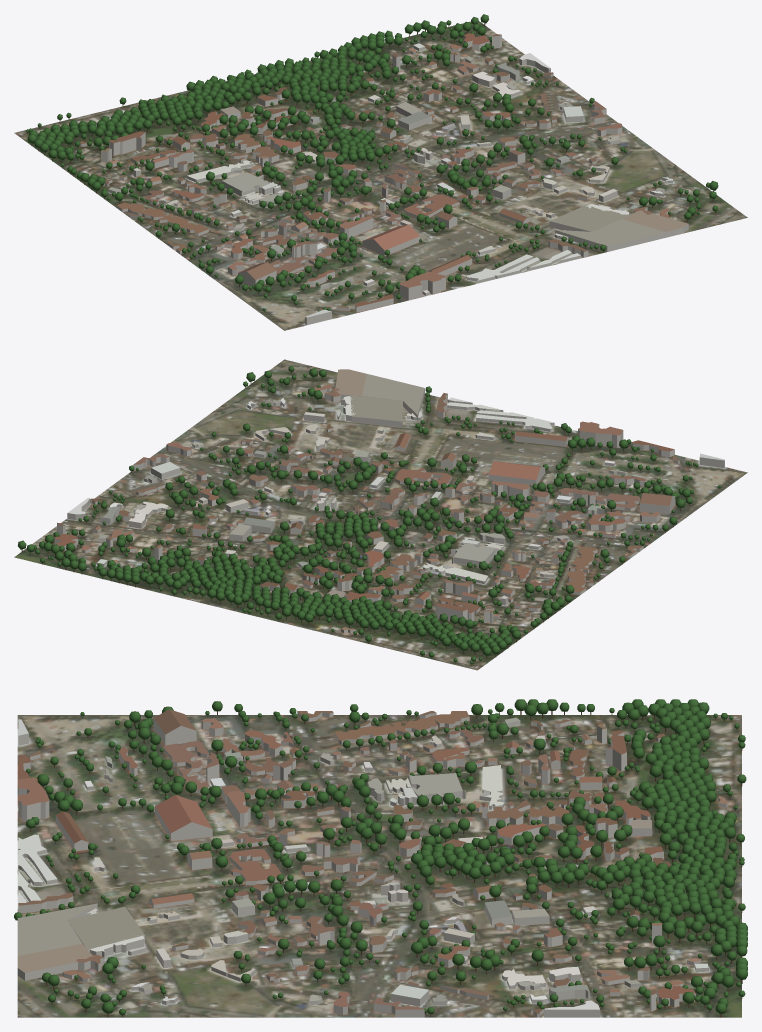
The picture shows the model from 3 angles, top to bottom: view 1: azimuth 30°, elevation 25°; view 2: azimuth 150°, elevation 25°; view 3: azimuth 270°, elevation 25°; orthographic projection. The views are drawn at different scales.
Visible parts, largest first — view 1: ground, trees, B226, B212, B197, B088, B220, B227, B222, B095, B182, B013 (+2 smaller); view 2: ground, trees, B212, B226, B197, B222, B088, B095, B220, B227, B196, B195 (+3 smaller); view 3: ground, trees, B226, B212, B197, B227, B088, B182, B222, B196, B195, B220 (+15 smaller).
Boxes of the visible parts, x1,y1,x2,y2 form: ground: (14, 21, 747, 330); trees: (26, 14, 718, 311); B226: (555, 219, 665, 251); B212: (549, 205, 628, 231); B197: (362, 224, 420, 256); B088: (116, 202, 209, 236); B220: (399, 271, 445, 300); B227: (622, 210, 688, 237); B222: (466, 254, 539, 283); B095: (221, 171, 270, 196); B182: (404, 194, 459, 217); B013: (109, 131, 145, 155); ground: (14, 359, 747, 670); trees: (18, 366, 721, 664); B212: (350, 395, 402, 427); B226: (362, 374, 424, 420); B197: (488, 461, 545, 485); B222: (476, 410, 554, 431); B088: (565, 547, 597, 595); B095: (451, 543, 498, 566); B220: (578, 421, 623, 447); B227: (335, 369, 366, 399); B196: (558, 488, 639, 511); B195: (640, 493, 675, 514); ground: (17, 715, 741, 1017); trees: (14, 699, 747, 1017); B226: (17, 903, 97, 955); B212: (68, 906, 144, 951); B197: (155, 795, 212, 840); B227: (17, 943, 93, 980); B088: (334, 711, 469, 744); B182: (230, 849, 281, 884); B222: (18, 834, 57, 885); B196: (163, 741, 209, 793); B195: (153, 709, 196, 745); B220: (18, 777, 49, 821).
Bounding box in the file's own units: 510 × 16.22 × 514.
Materials: 232 (1 with a texture image).
